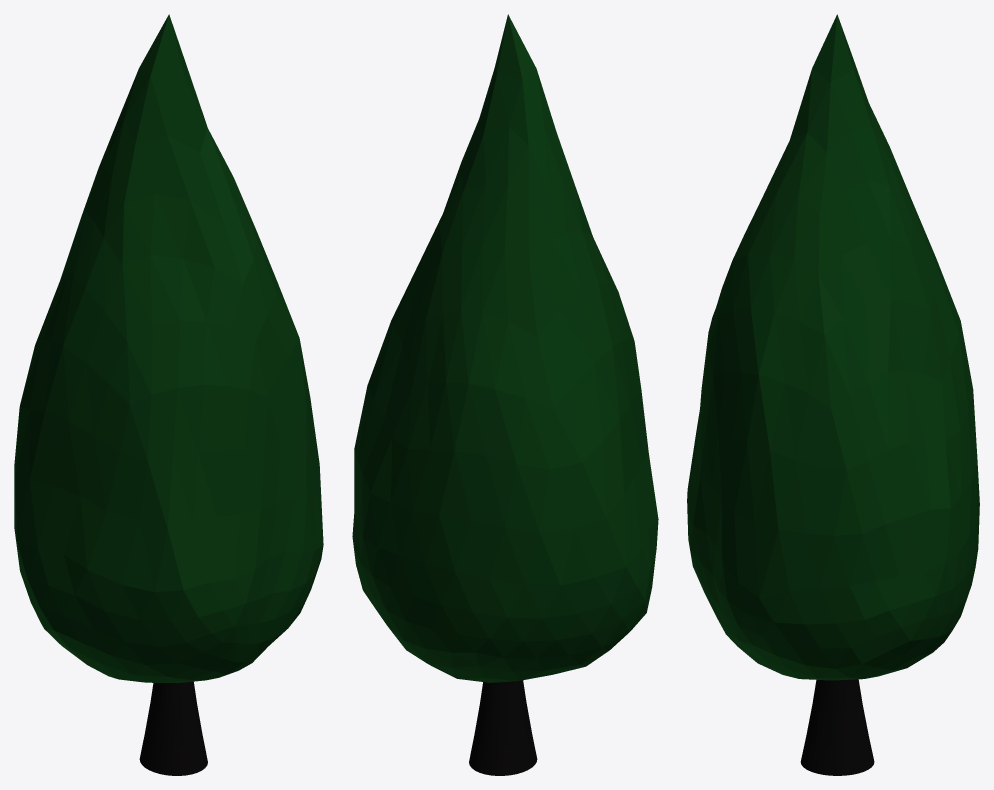
The model's file is tree_2.obj.
3 views of the same model, side by side, from view 1: azimuth 30°, elevation 25°; view 2: azimuth 150°, elevation 25°; view 3: azimuth 270°, elevation 25° (orthographic).
Parts seen in each view (by area): view 1: Icosphere.001, Cylinder.001; view 2: Icosphere.001, Cylinder.001; view 3: Icosphere.001, Cylinder.001.
Part boxes in pixels (x1,y1,x2,y2): Icosphere.001: (14,14,323,683); Cylinder.001: (139,681,207,775); Icosphere.001: (352,14,658,682); Cylinder.001: (469,680,537,775); Icosphere.001: (687,14,979,680); Cylinder.001: (800,679,874,775).
Bounding box in the file's own units: 2.55 × 6.7 × 2.39.
